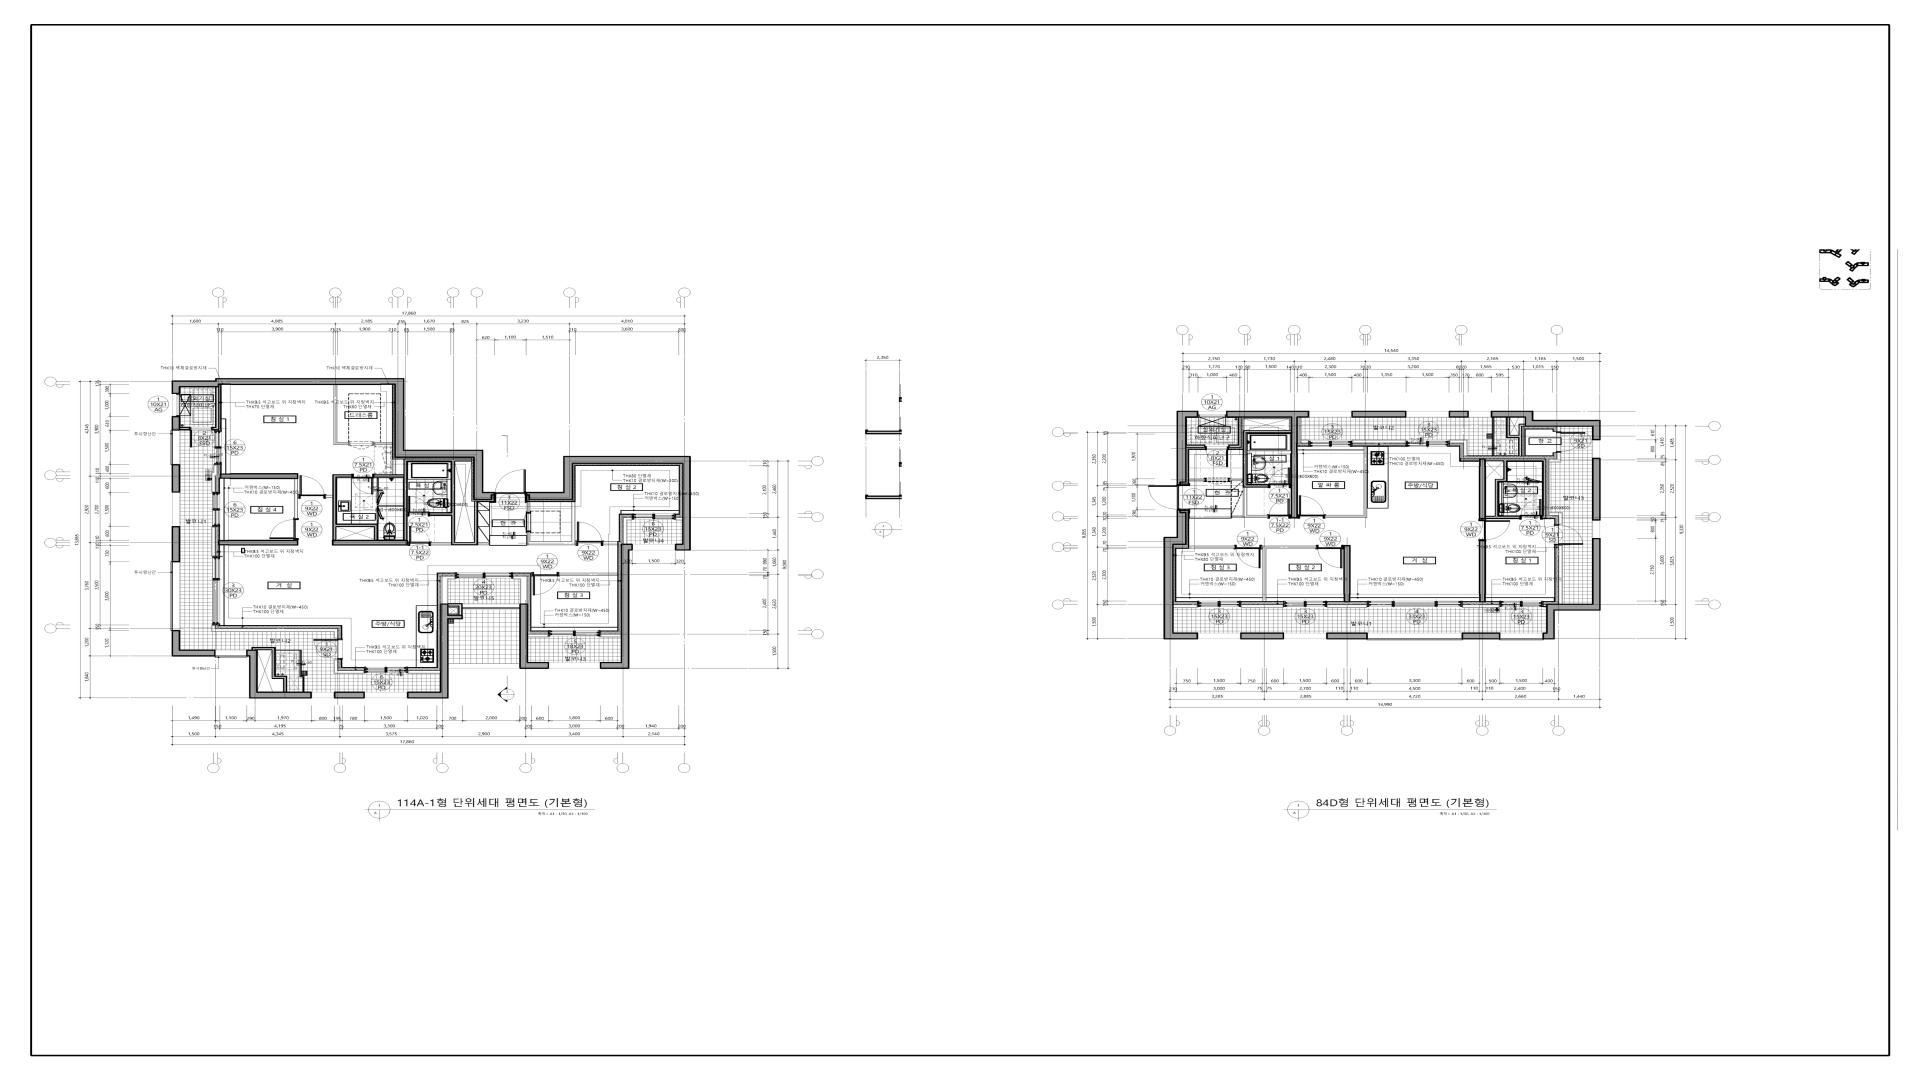door: (1149, 485, 1191, 510), (495, 471, 526, 502), (1478, 520, 1510, 541), (1316, 545, 1344, 568), (531, 572, 559, 596), (298, 475, 326, 498), (1553, 525, 1584, 546), (269, 518, 299, 539), (1236, 545, 1262, 568), (576, 522, 603, 546), (1298, 496, 1325, 518), (1556, 431, 1585, 452), (314, 638, 343, 659), (1205, 446, 1229, 467), (1519, 498, 1542, 520), (352, 473, 375, 495), (407, 496, 430, 517), (1269, 498, 1291, 518), (1269, 468, 1291, 488), (190, 427, 212, 447), (407, 526, 430, 546), (349, 442, 375, 450), (1205, 477, 1229, 485)
wall: (171, 378, 495, 500), (526, 456, 691, 551), (375, 459, 489, 546), (1226, 411, 1309, 518), (1543, 538, 1601, 640), (1229, 430, 1291, 518), (407, 604, 463, 699), (1163, 510, 1199, 640), (600, 543, 633, 669), (1486, 459, 1547, 520), (326, 475, 378, 539), (247, 650, 313, 699), (1491, 411, 1601, 440), (1325, 447, 1367, 518), (1262, 546, 1316, 601), (527, 502, 575, 545), (520, 604, 549, 669), (1176, 410, 1199, 485), (211, 625, 338, 638), (252, 647, 287, 692), (171, 630, 215, 657), (1549, 452, 1563, 525), (334, 385, 349, 444), (1506, 418, 1524, 456), (1592, 458, 1601, 521), (220, 539, 298, 546), (332, 539, 407, 546), (1478, 459, 1486, 520), (1478, 542, 1486, 601), (334, 659, 364, 674), (1228, 418, 1242, 448), (222, 473, 298, 479), (513, 576, 527, 604), (440, 576, 455, 604), (1344, 545, 1350, 603), (1352, 411, 1407, 418), (171, 526, 181, 563), (1240, 633, 1284, 640), (1449, 440, 1468, 456), (212, 388, 219, 430), (1327, 633, 1367, 640), (171, 464, 181, 493), (1461, 633, 1501, 640), (622, 517, 632, 543), (1559, 546, 1563, 604), (559, 572, 617, 576), (334, 692, 365, 699), (1300, 418, 1308, 443), (211, 464, 218, 492), (448, 603, 463, 615), (211, 526, 216, 556), (294, 479, 298, 518), (171, 415, 181, 431), (1352, 440, 1406, 443), (1449, 411, 1469, 418), (407, 670, 439, 674), (1189, 546, 1234, 549), (1241, 605, 1283, 608), (1327, 605, 1367, 608), (1462, 605, 1499, 608), (1174, 604, 1197, 608), (1187, 444, 1205, 448), (527, 634, 549, 637), (1460, 459, 1480, 462), (375, 442, 392, 444), (1189, 479, 1205, 481), (603, 542, 617, 545), (527, 502, 530, 513), (675, 517, 682, 521), (181, 427, 190, 430), (1543, 604, 1547, 608), (1557, 427, 1561, 431)
window: (1367, 633, 1461, 641), (170, 563, 179, 630), (212, 556, 220, 625), (1367, 601, 1462, 607), (455, 572, 513, 579), (448, 663, 520, 669), (463, 604, 520, 611), (170, 431, 181, 464), (549, 662, 600, 669), (549, 630, 600, 637), (1501, 633, 1543, 641), (1308, 440, 1352, 447), (1406, 440, 1449, 447), (632, 513, 675, 520), (364, 667, 407, 674), (212, 492, 220, 526), (214, 430, 222, 464), (215, 650, 247, 658), (1197, 601, 1241, 607), (1283, 601, 1327, 607), (1499, 601, 1543, 607), (1309, 411, 1352, 417), (1407, 411, 1449, 417), (365, 692, 407, 698), (633, 545, 675, 550), (1284, 633, 1327, 638), (173, 493, 179, 526), (1199, 633, 1240, 638), (1199, 411, 1226, 418), (173, 394, 179, 415), (1593, 440, 1600, 458), (1593, 521, 1600, 538), (1469, 411, 1490, 417), (313, 692, 334, 698)
